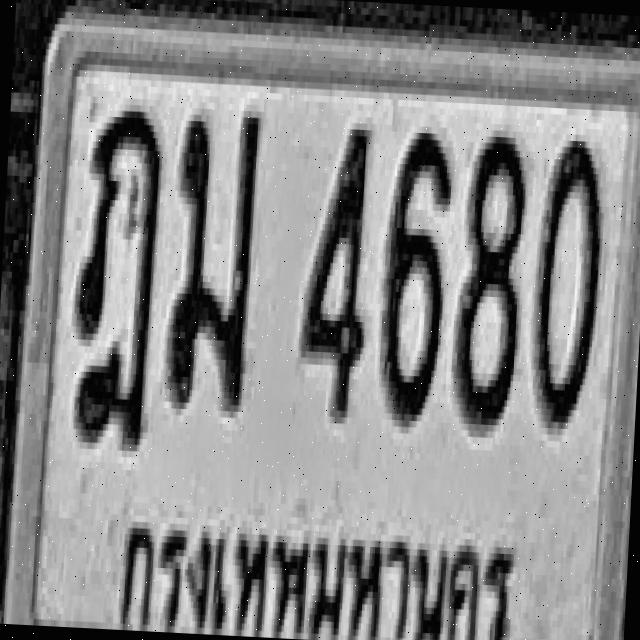0: (530, 134, 606, 430)
23DorChaDa: (68, 103, 164, 452)
4: (298, 122, 374, 418)
42MorMa: (164, 101, 262, 412)
6: (376, 122, 454, 426)
8: (451, 129, 529, 433)
Bangkok: (117, 499, 522, 640)
